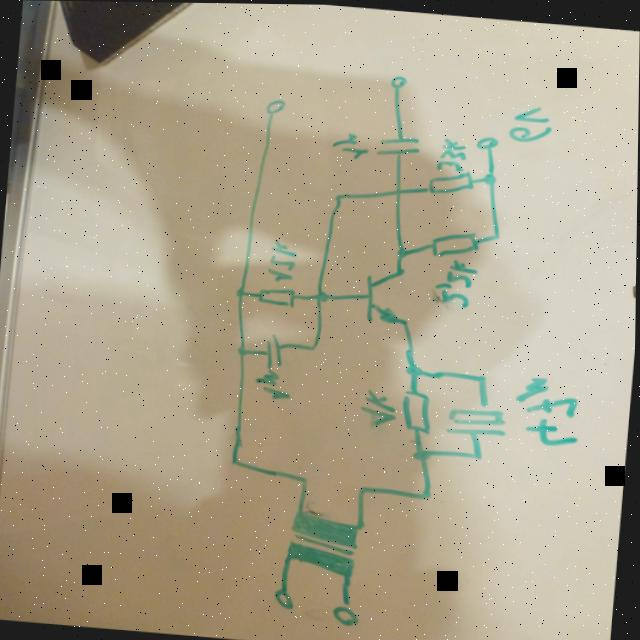capacitor: (442, 395, 511, 443), (372, 124, 426, 165), (258, 332, 296, 370)
crossover: (389, 182, 407, 199)
junction: (408, 442, 439, 465), (401, 359, 426, 379), (312, 286, 332, 307), (479, 169, 502, 187), (233, 342, 253, 359), (468, 447, 489, 462), (354, 481, 373, 497), (418, 486, 437, 502), (474, 370, 493, 385), (394, 245, 412, 260), (233, 285, 251, 300), (228, 455, 245, 470), (331, 190, 348, 205), (297, 473, 315, 486), (308, 342, 324, 355), (488, 230, 504, 242)
resistor: (398, 384, 439, 439), (426, 226, 484, 261), (423, 168, 478, 198), (254, 284, 301, 310)
terminal: (328, 598, 364, 629), (267, 585, 302, 612), (258, 97, 291, 119), (385, 70, 410, 92), (474, 133, 501, 153)
text: (509, 369, 587, 453), (434, 257, 484, 311), (502, 100, 557, 145), (358, 385, 401, 431), (265, 236, 300, 285), (252, 367, 296, 404), (329, 125, 372, 162), (435, 136, 469, 173)
transformer: (279, 503, 372, 582)
transistor: (356, 264, 419, 330)
